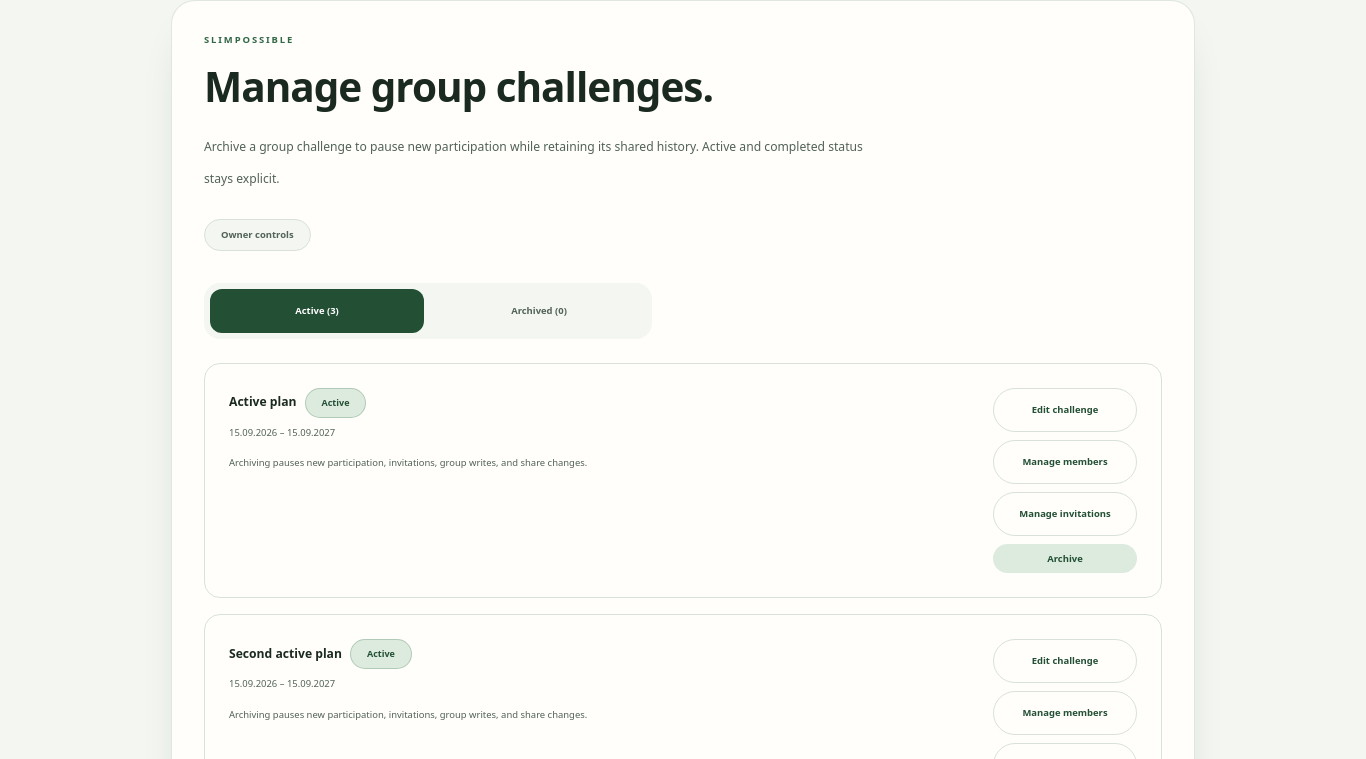
ChallengeManagementPage › lists active and completed group challenges with their real status and archives through the repository
Expected: the heading "Active plan" is shown, [229,393,296,412]
Expected: the heading "Second active plan" is shown, [229,644,342,663]
Click the button "Archive". click: (1065,558)
box: [993,544,1137,573]
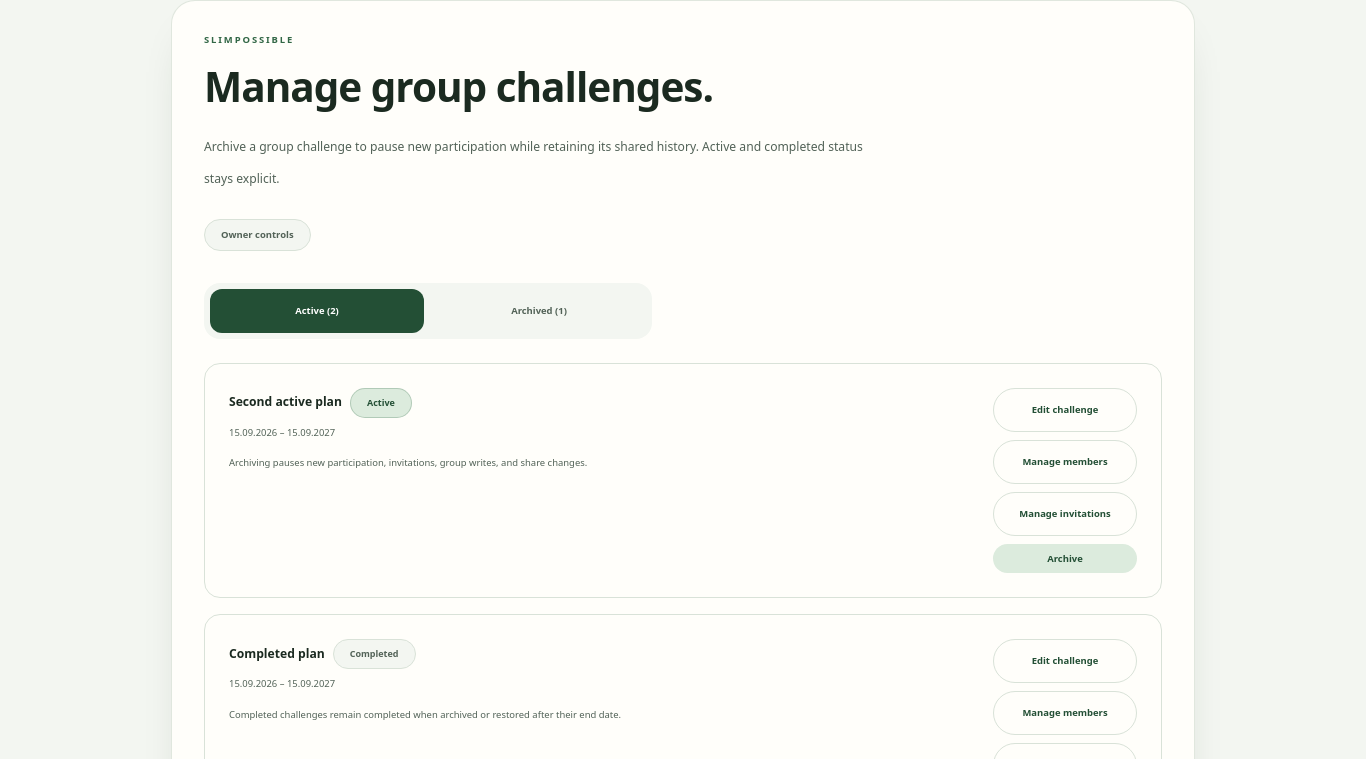
Click the tab "Archived (1)". click: (539,310)
box: [432,288,646,332]
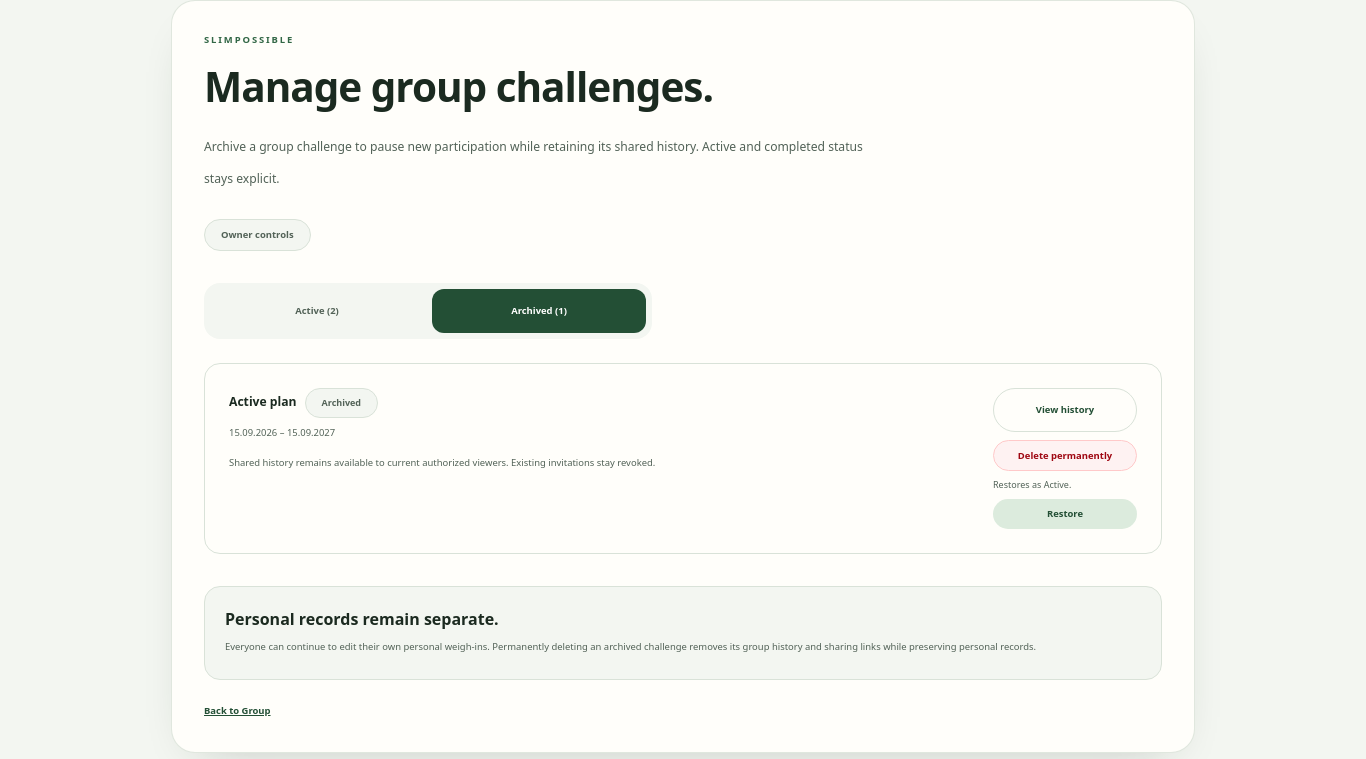
Expected: the heading "Active plan" is shown, [229,393,296,412]
Expected: the button "Restore" is shown, [993,499,1137,528]
Expected: the button "Delete permanently" is shown, [993,440,1137,471]
